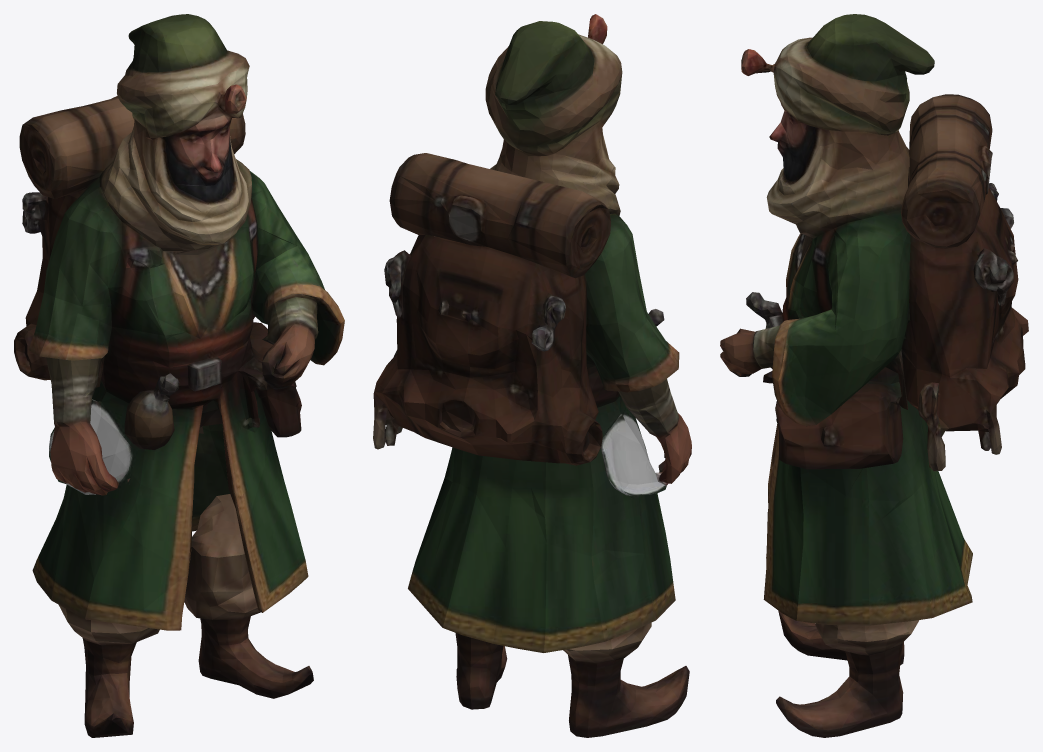
Rendered from merchant.glb.
3 views of the same model, side by side, from view 1: azimuth 30°, elevation 25°; view 2: azimuth 150°, elevation 25°; view 3: azimuth 270°, elevation 25° (orthographic).
Visible parts, largest first — view 1: world; view 2: world; view 3: world.
Boxes of the visible parts, left/top/right/bottom form: world: left=14, top=14, right=344, bottom=737; world: left=373, top=14, right=691, bottom=737; world: left=720, top=14, right=1028, bottom=737.
Bounding box in the file's own units: 0.4067 × 1 × 0.4189.
1 material, 1 textured.
